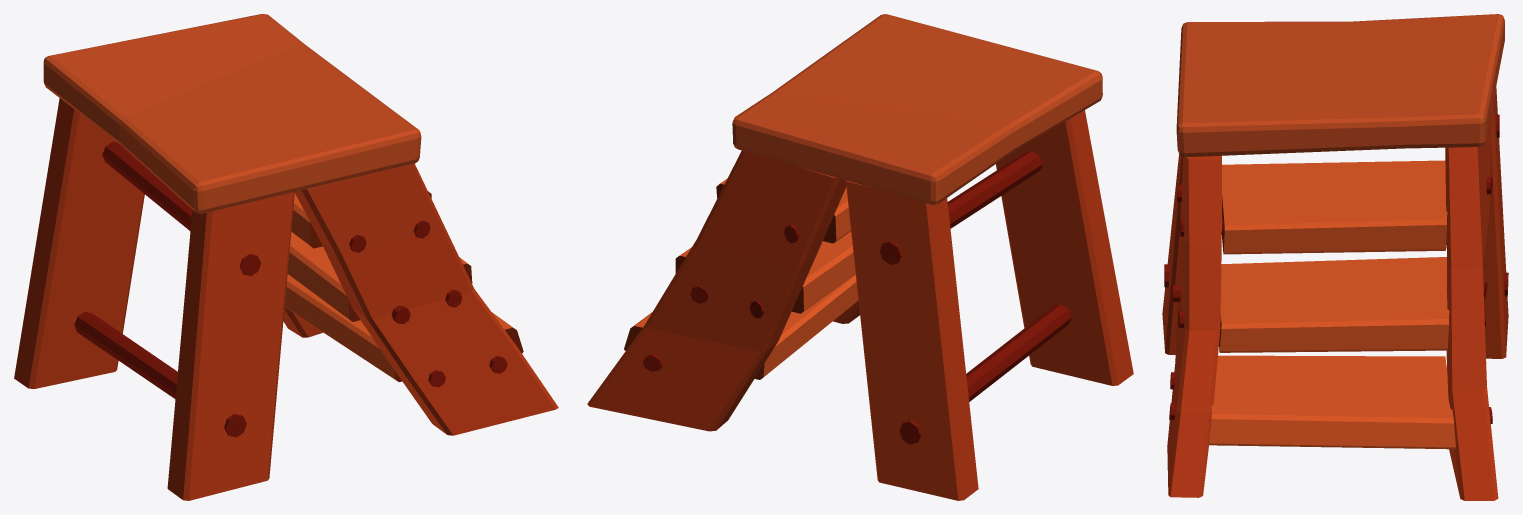
Rendered from item_09.glb.
3 renders of one model, left to right at view 1: azimuth 30°, elevation 25°; view 2: azimuth 150°, elevation 25°; view 3: azimuth 270°, elevation 25°, orthographic.
Visible parts, largest first — view 1: Item9; view 2: Item9; view 3: Item9.
Boxes of the visible parts, x1=… form: Item9: x1=14, y1=14, x2=558, y2=500; Item9: x1=587, y1=14, x2=1133, y2=500; Item9: x1=1162, y1=14, x2=1508, y2=500.
Size of what is drawn, in the model's own units: 0.4231 by 0.3399 by 0.3331.
Materials: 1 (1 with a texture image).
